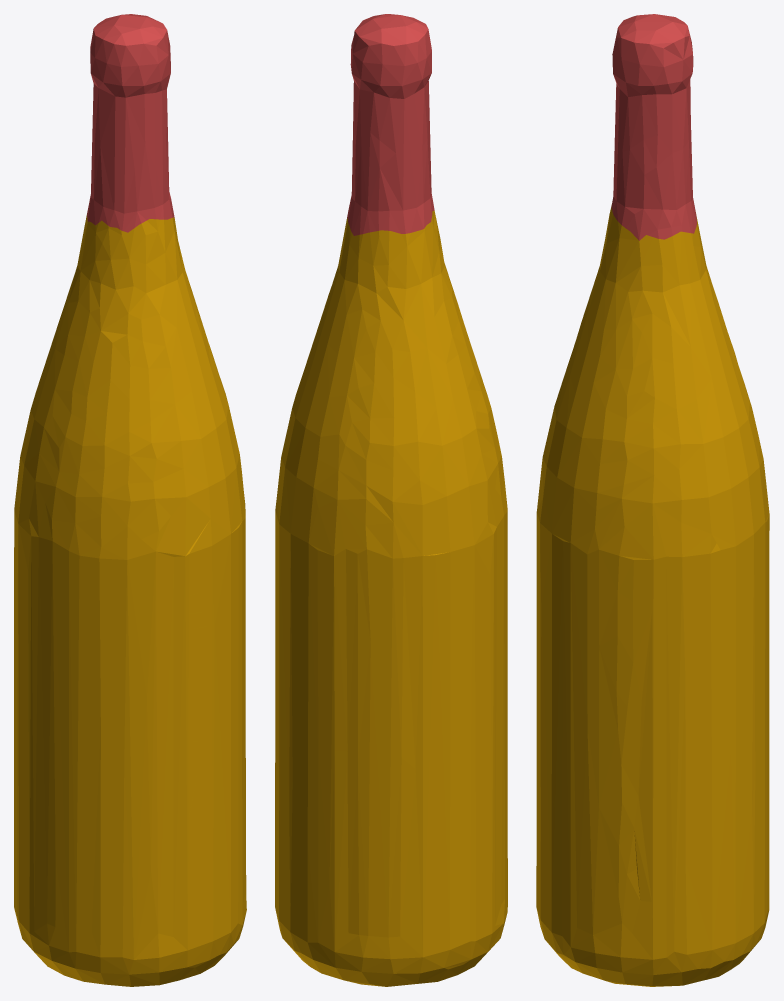
Rendered from mode_1_2pcs.glb.
3 views of the same model, side by side, from view 1: azimuth 30°, elevation 25°; view 2: azimuth 150°, elevation 25°; view 3: azimuth 270°, elevation 25° (orthographic).
Parts seen in each view (by area): view 1: piece_0.obj, piece_1.obj; view 2: piece_0.obj, piece_1.obj; view 3: piece_0.obj, piece_1.obj.
Boxes of the visible parts, x1,y1,x2,y2 form: piece_0.obj: [14, 215, 246, 986]; piece_1.obj: [87, 14, 174, 232]; piece_0.obj: [275, 210, 507, 986]; piece_1.obj: [347, 14, 434, 235]; piece_0.obj: [536, 204, 769, 986]; piece_1.obj: [611, 14, 696, 240].
Size of the model in its own units: 0.2268 by 1 by 0.227.
